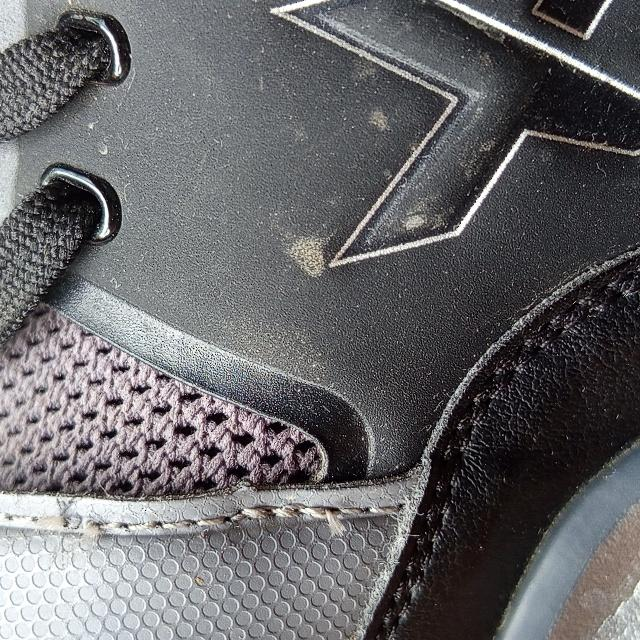broken: (36, 509, 125, 548)
